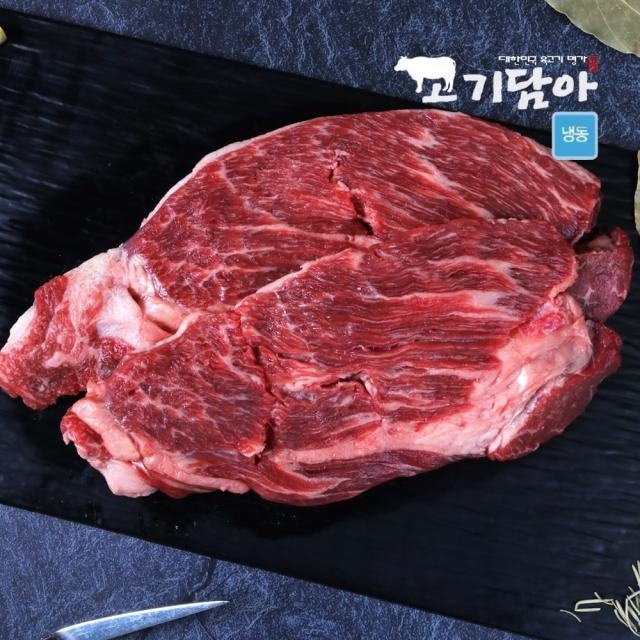beef: (192, 190, 472, 428)
